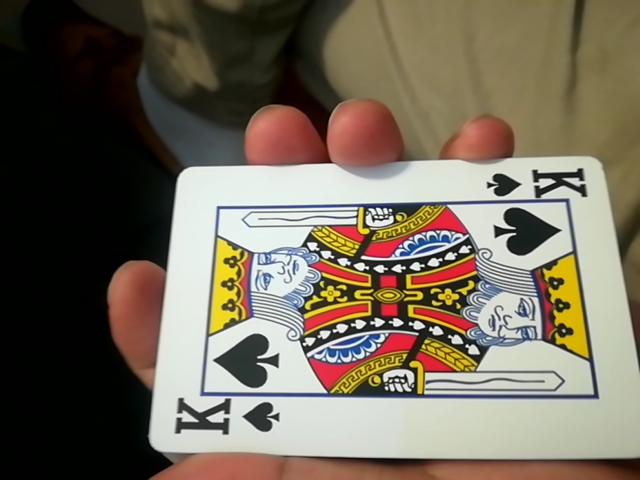ht k: (123, 147, 627, 474)
